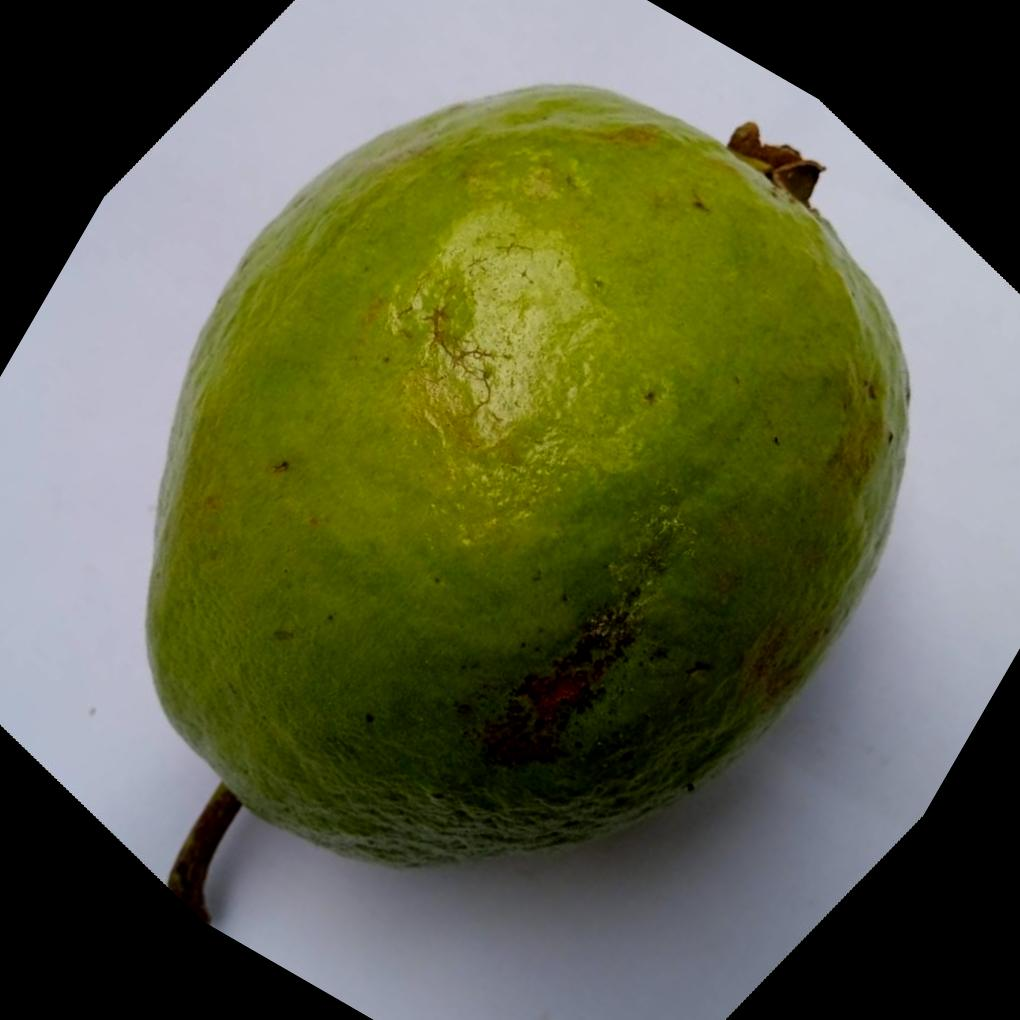FreshGuava: (140, 78, 909, 867)
